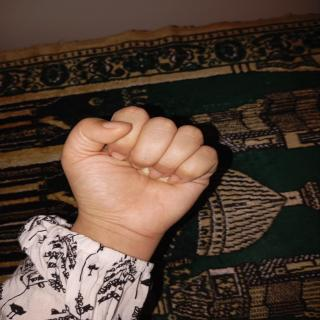SAD: (50, 95, 227, 240)
